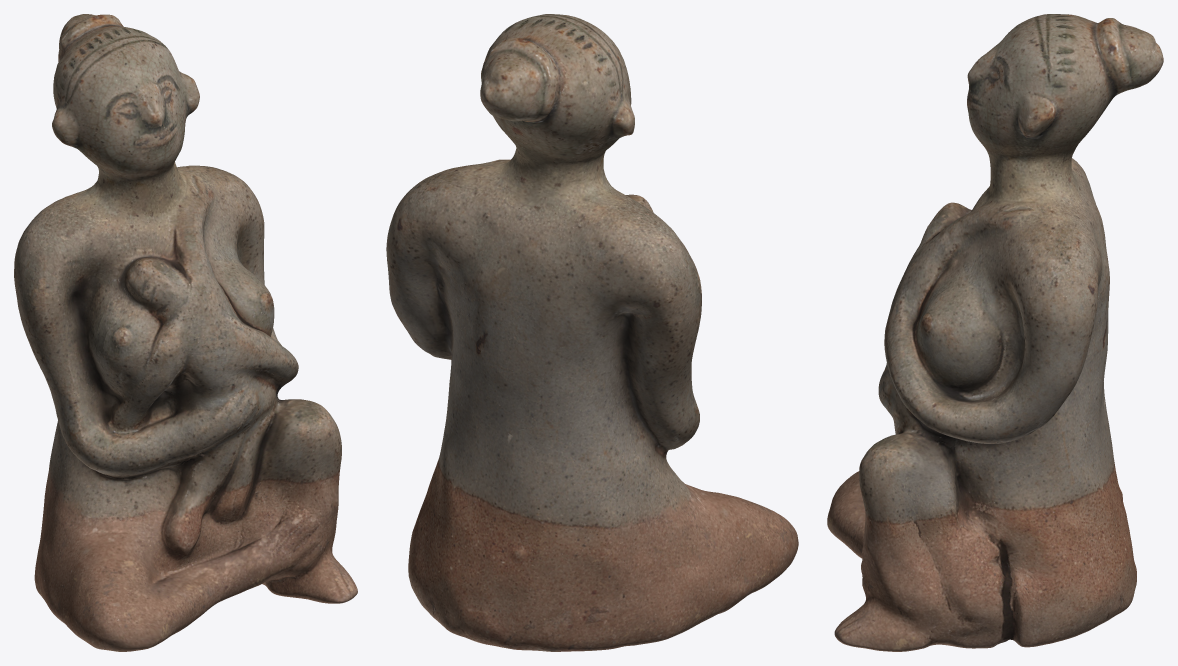
File: obj_mother_and_child_1st_c_bce_1_09032f.glb
The picture shows the model from 3 angles, left to right: view 1: azimuth 30°, elevation 25°; view 2: azimuth 150°, elevation 25°; view 3: azimuth 270°, elevation 25°; orthographic projection. The views are drawn at different scales.
Visible parts, largest first — view 1: obj_mother_and_child_1st_c_bce_1_09032f; view 2: obj_mother_and_child_1st_c_bce_1_09032f; view 3: obj_mother_and_child_1st_c_bce_1_09032f.
Boxes of the visible parts, left/top/right/bottom form: obj_mother_and_child_1st_c_bce_1_09032f: left=14, top=14, right=357, bottom=651; obj_mother_and_child_1st_c_bce_1_09032f: left=386, top=14, right=798, bottom=651; obj_mother_and_child_1st_c_bce_1_09032f: left=827, top=14, right=1163, bottom=651.
Size of the model in its own units: 0.1042 by 0.2 by 0.1069.
Materials: 1 (1 with a texture image).
